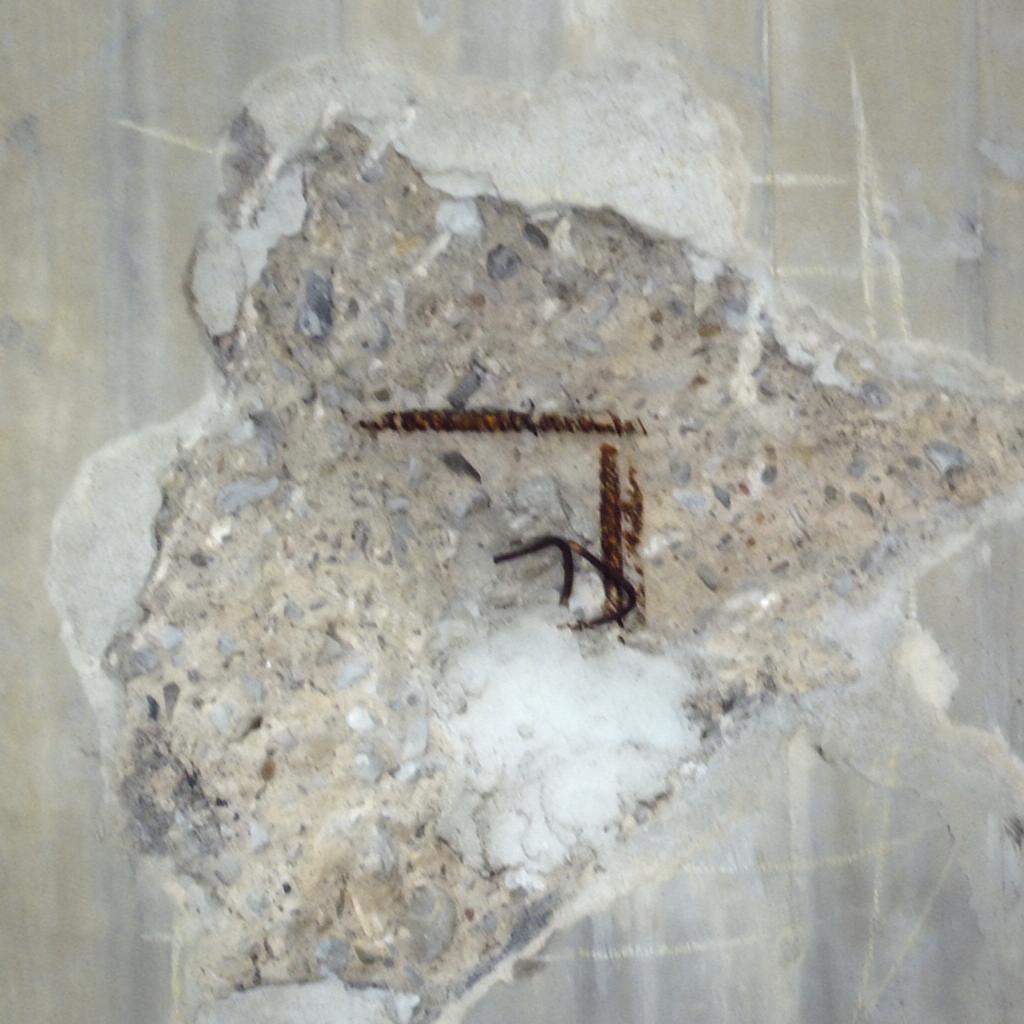exposed_rebar: (494, 444, 644, 627), (360, 408, 646, 435)
spalling: (52, 50, 1024, 1024)
